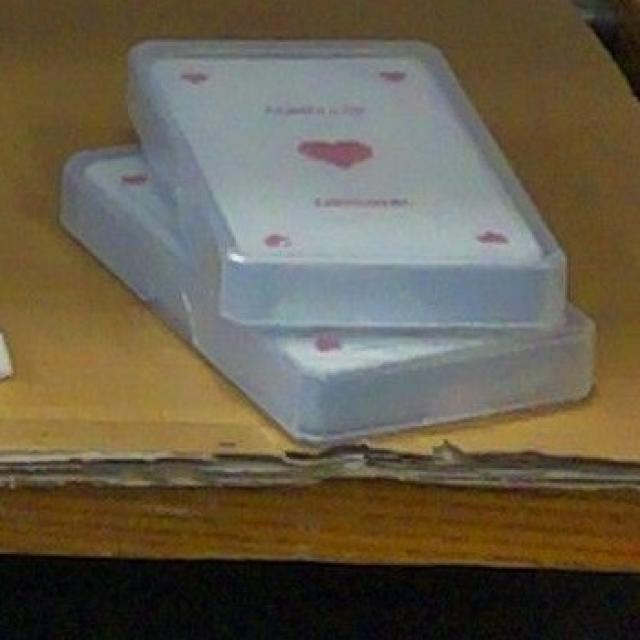Jasskarte: (62, 150, 592, 439), (128, 40, 565, 327)
